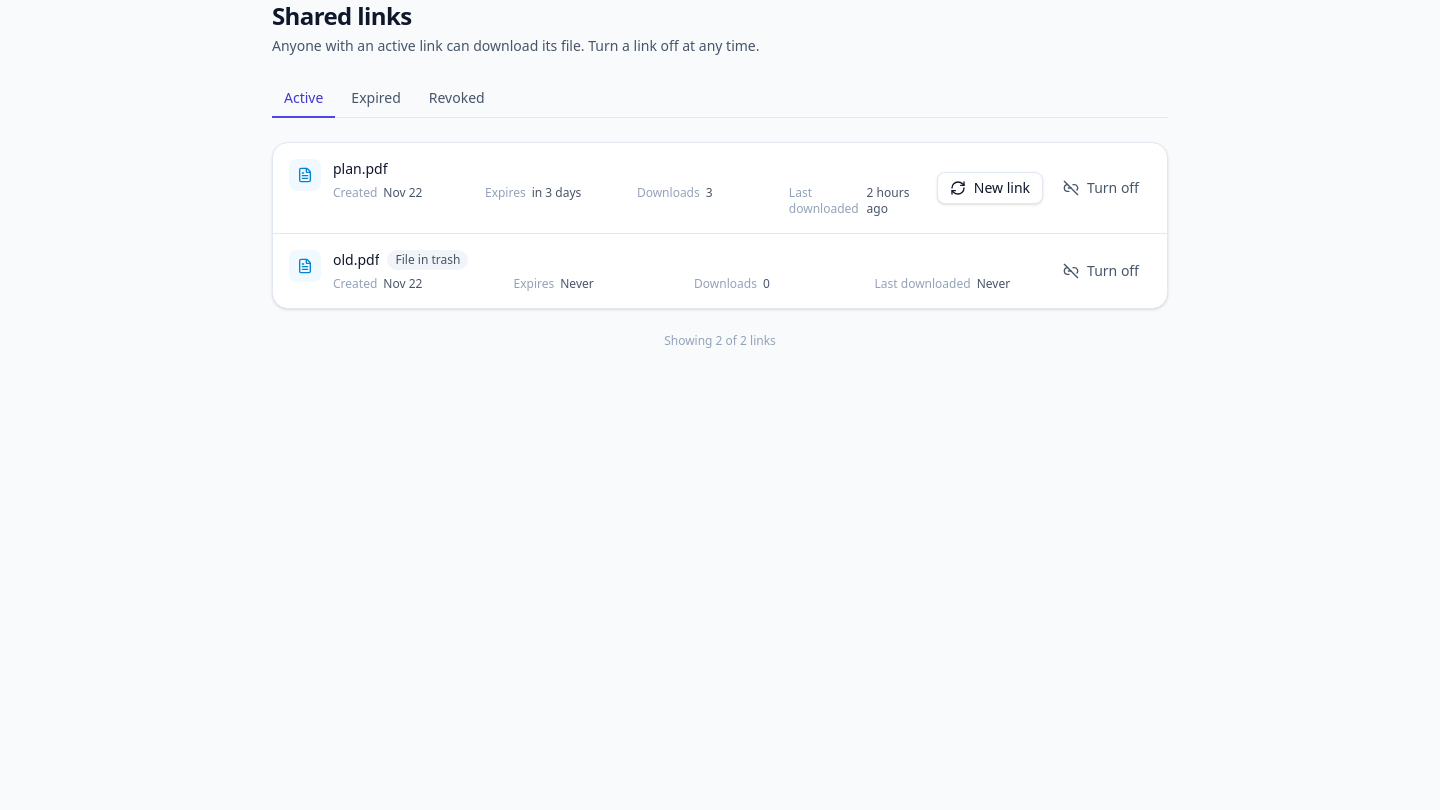
Shared page › shows a revoke error inside the dialog
Expected: the text "plan.pdf" is shown, [333,159,388,179]
Click the button with aria-label "Stop sharing plan.pdf" at (1101, 188), box [1051,172,1151,204]
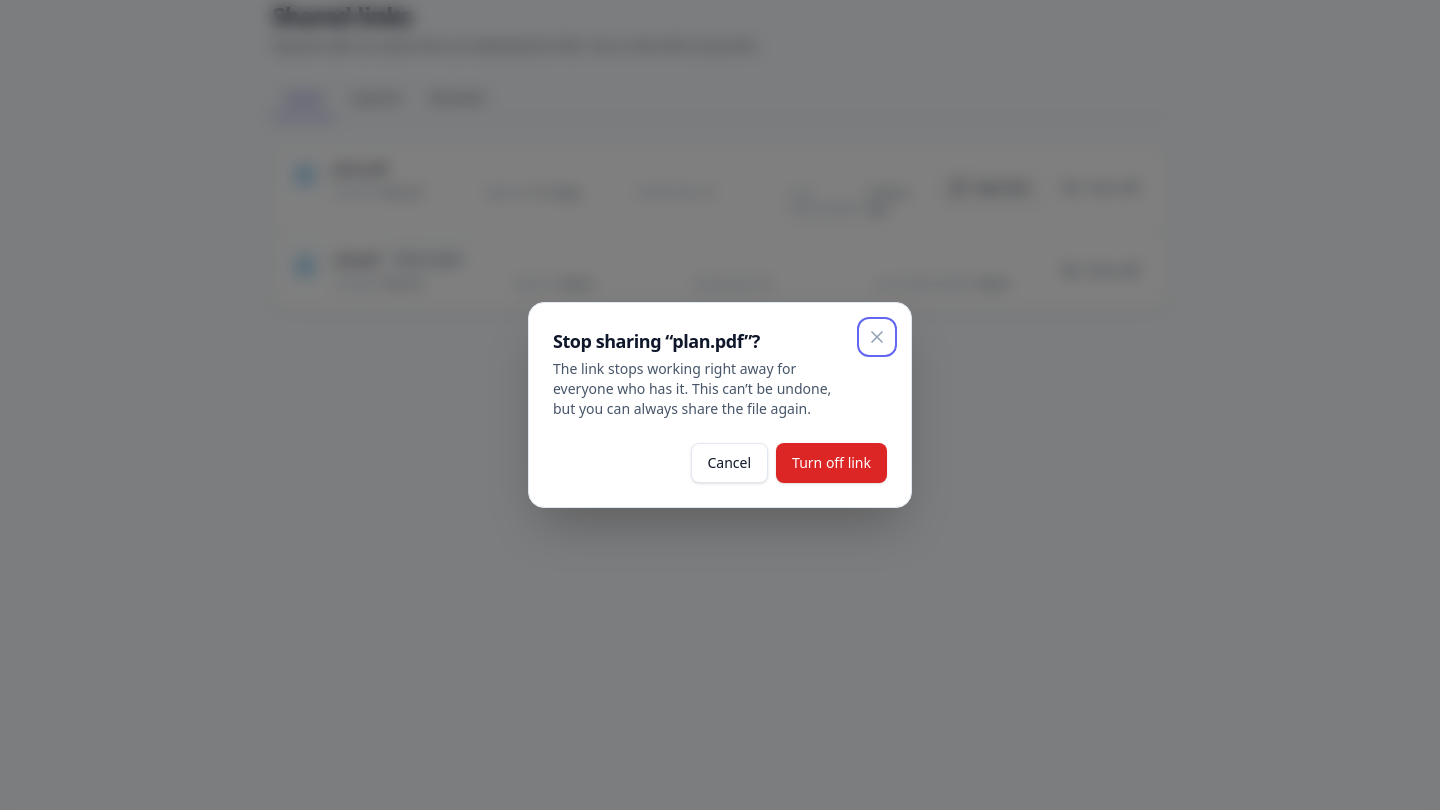
Click the button "Turn off link" at (832, 463), box [776,443,887,483]
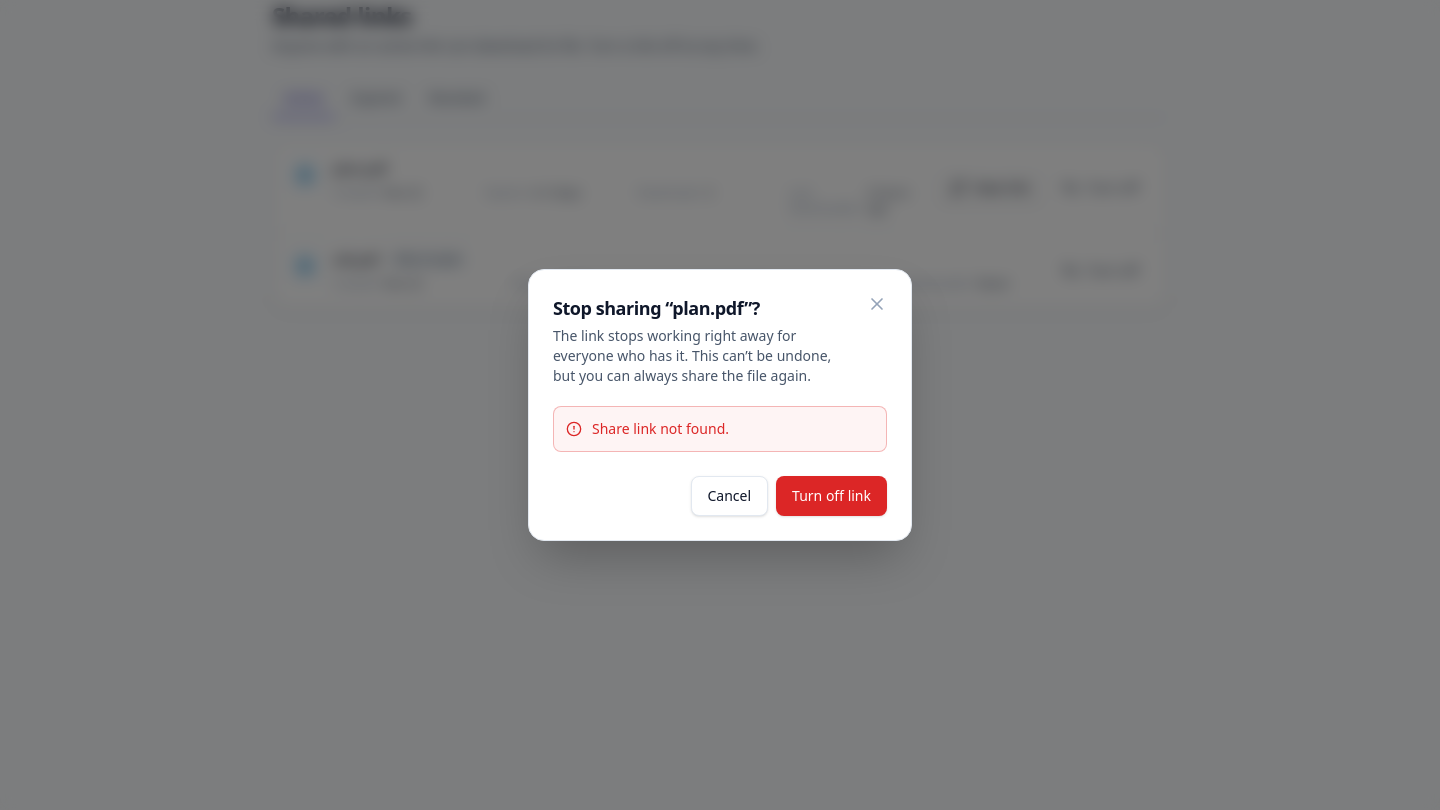
Result: the text "Share link not found." is shown at [592,419,729,439]
